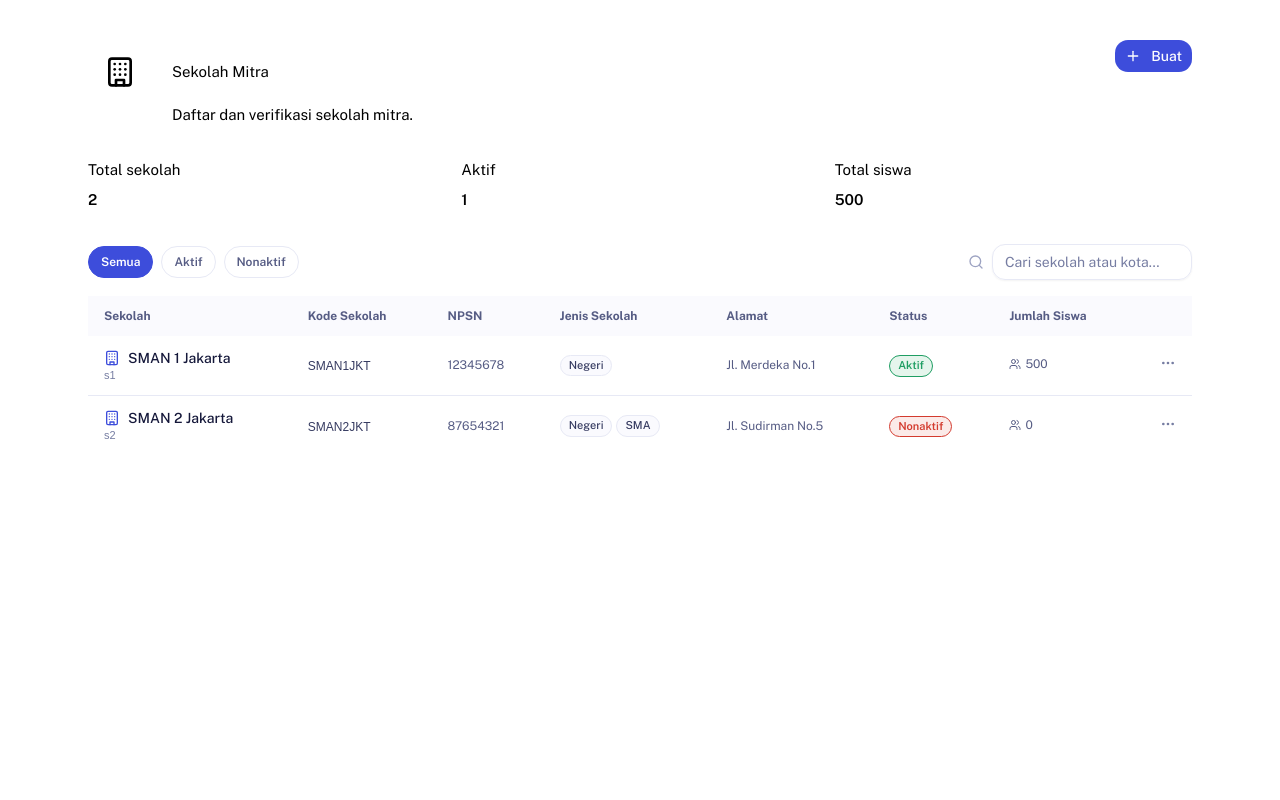
Test: SystemSchoolsPage › always keeps the school code input editable (Task 32 removed the student-count lock)
Expected: the text "SMAN 1 Jakarta" is shown, [128,348,230,368]
Expected: the row that starts with "SMAN 1 Jakarta" is shown, [88,336,1192,396]
Press the mouse on the button without text in the row of "SMAN 1 Jakarta" at (1168,363), box [1160,355,1176,371]
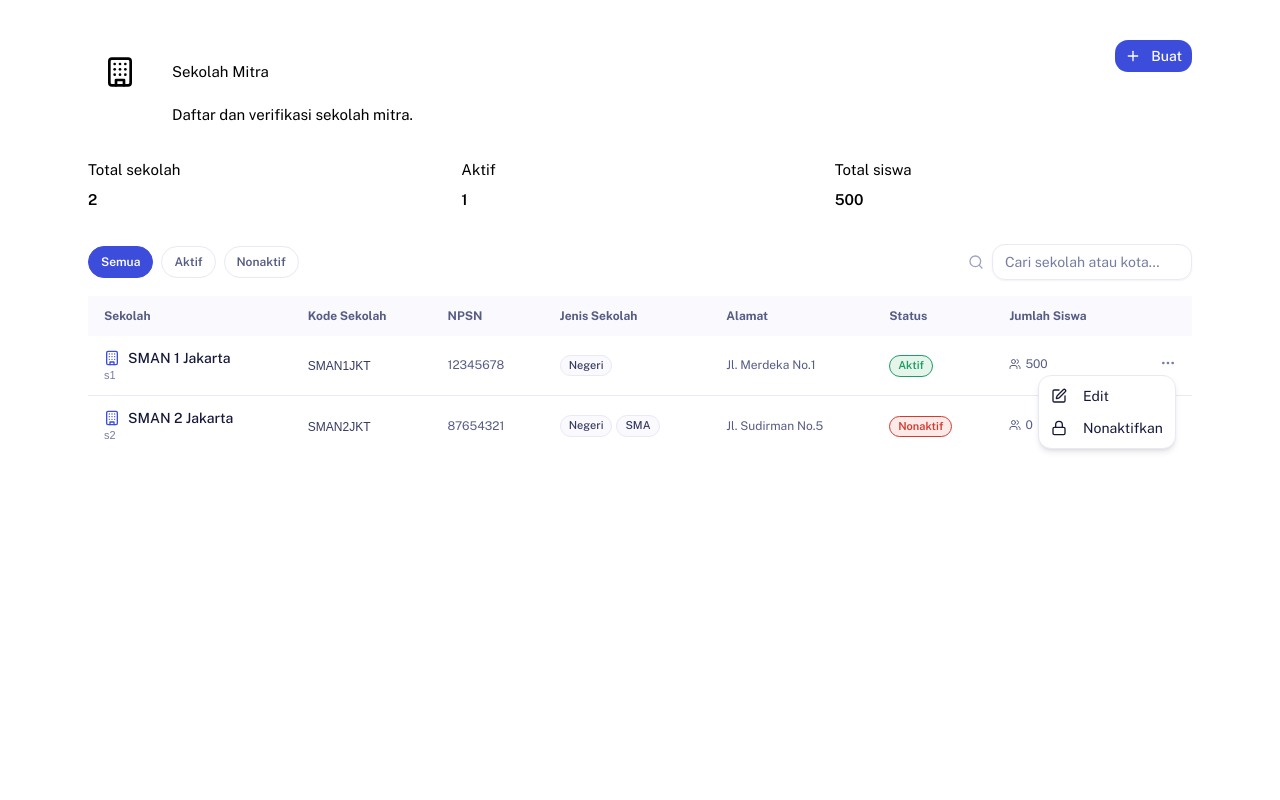
Click the menu item "Edit" at (1080,396), box [1051,388,1109,404]
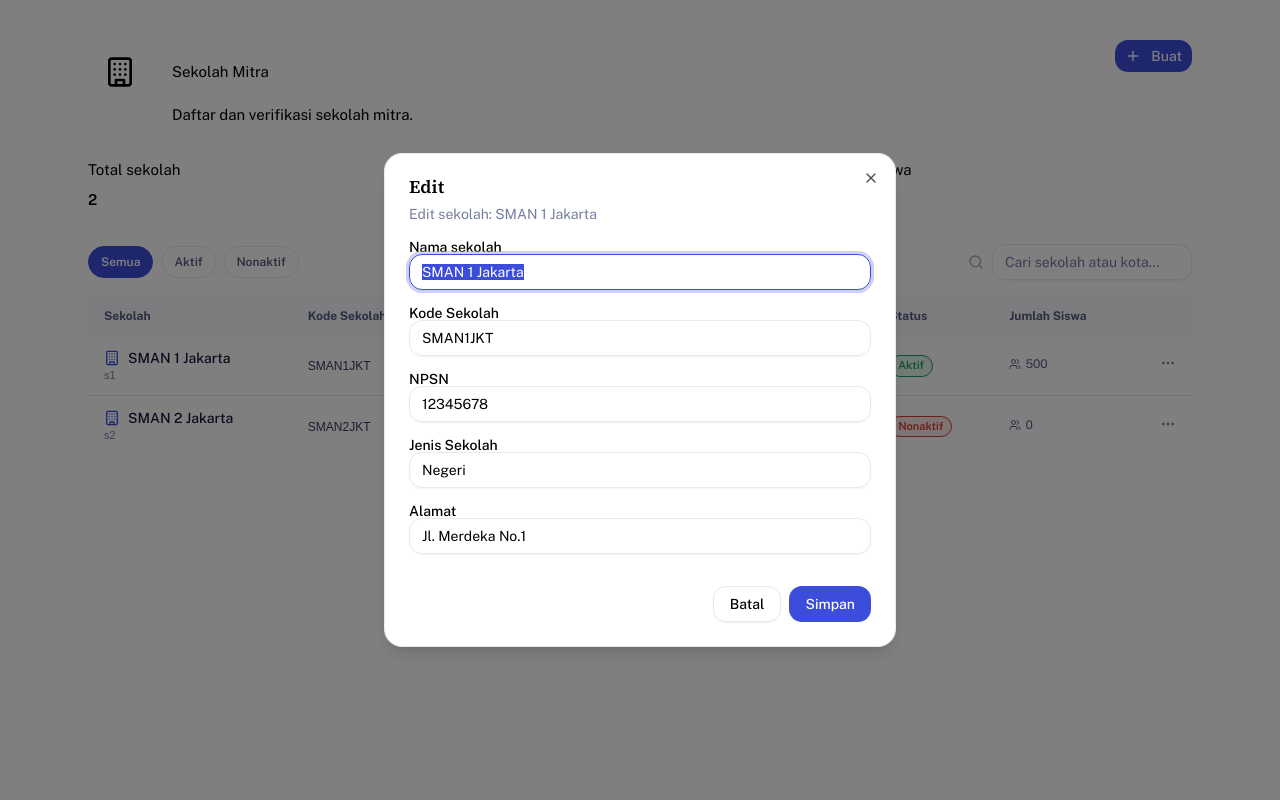
Now the 2nd field showing "SMAN1JKT" is enabled, box [409,320,871,356]
Click the button "Batal" at (747,604), box [713,586,782,622]
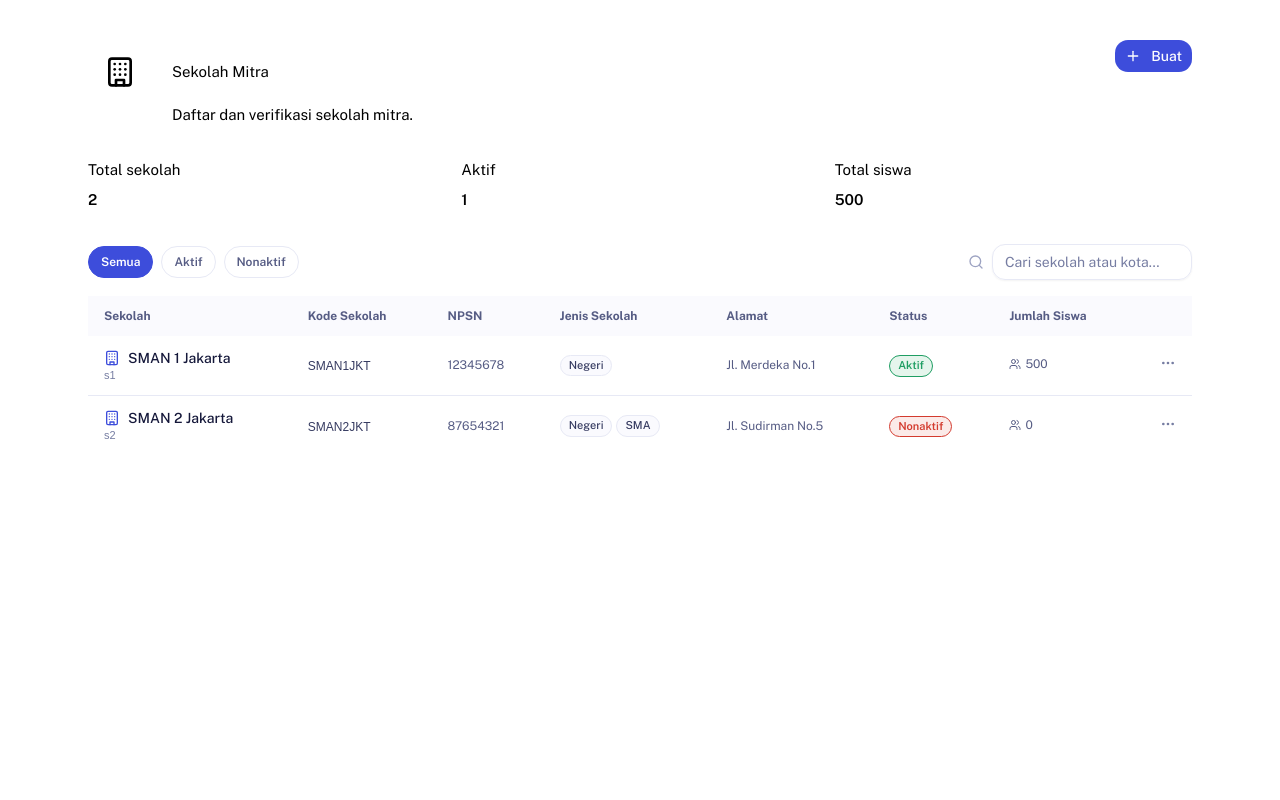
Now the dialog is gone
Press the mouse on the button without text in the row of "SMAN 2 Jakarta" at (1168,424), box [1160,416,1176,432]
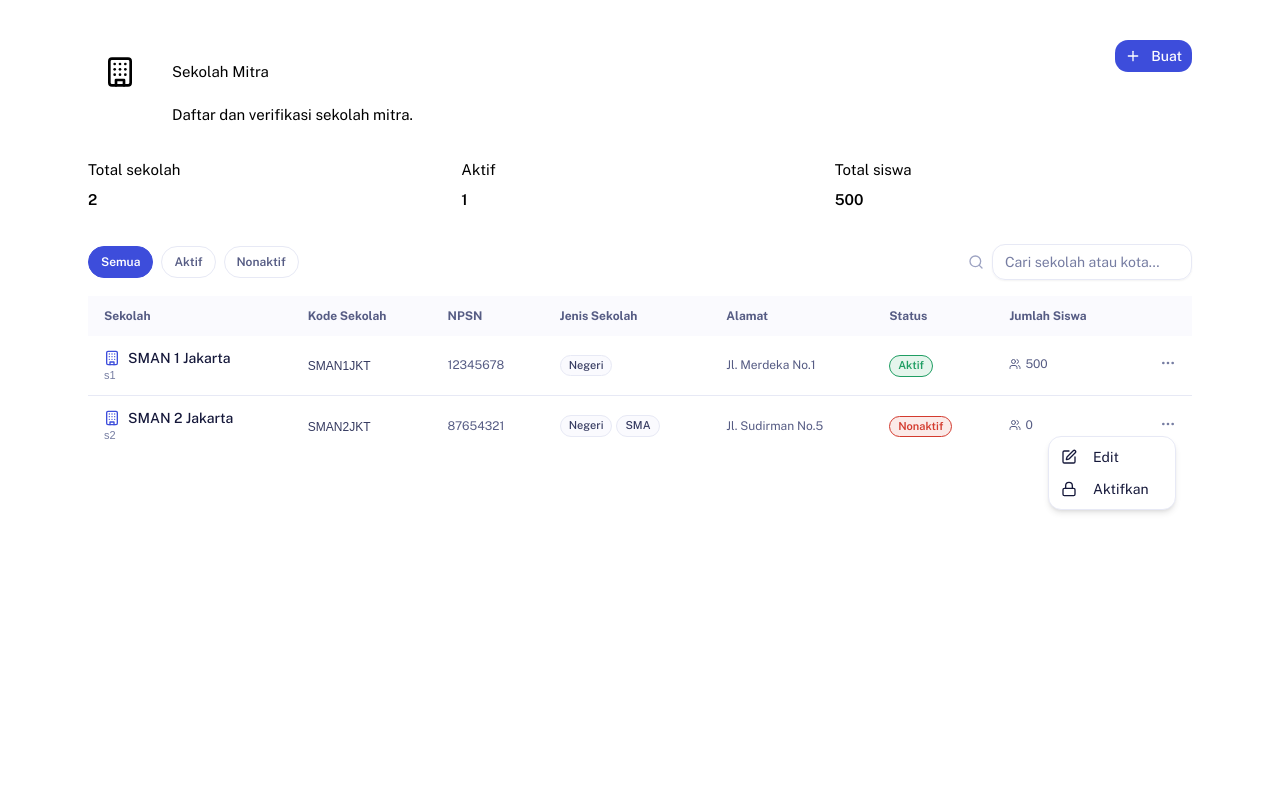
Click the menu item "Edit" at (1090,457), box [1061,449,1119,465]
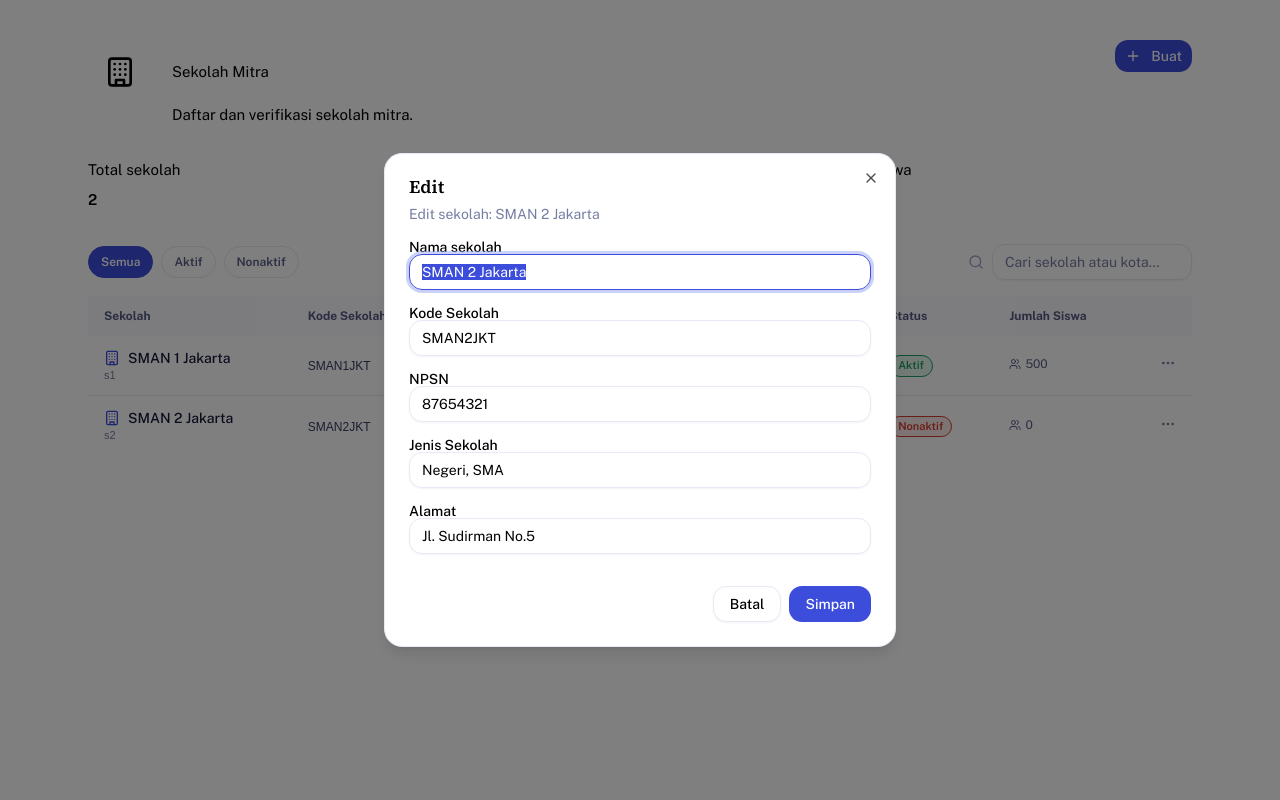
Now the 2nd field showing "SMAN2JKT" is enabled, box [409,320,871,356]
